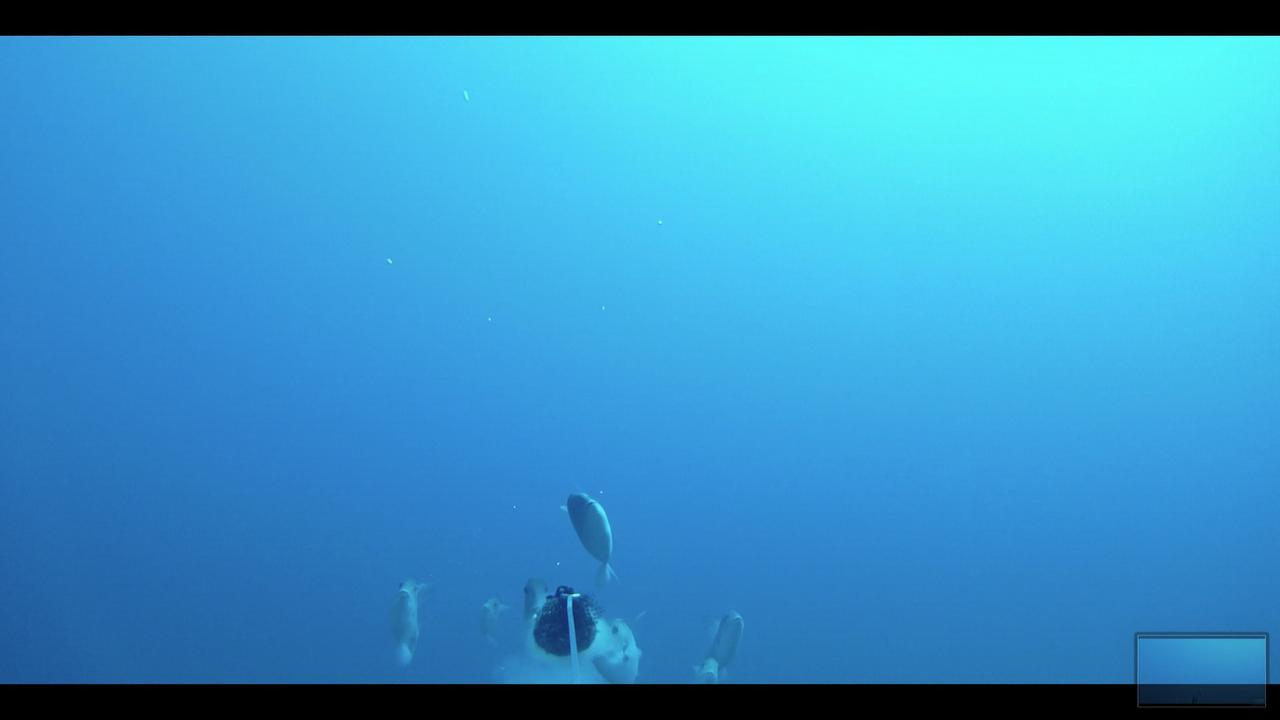balistes: (547, 481, 633, 586), (375, 564, 450, 670), (679, 606, 760, 681)
